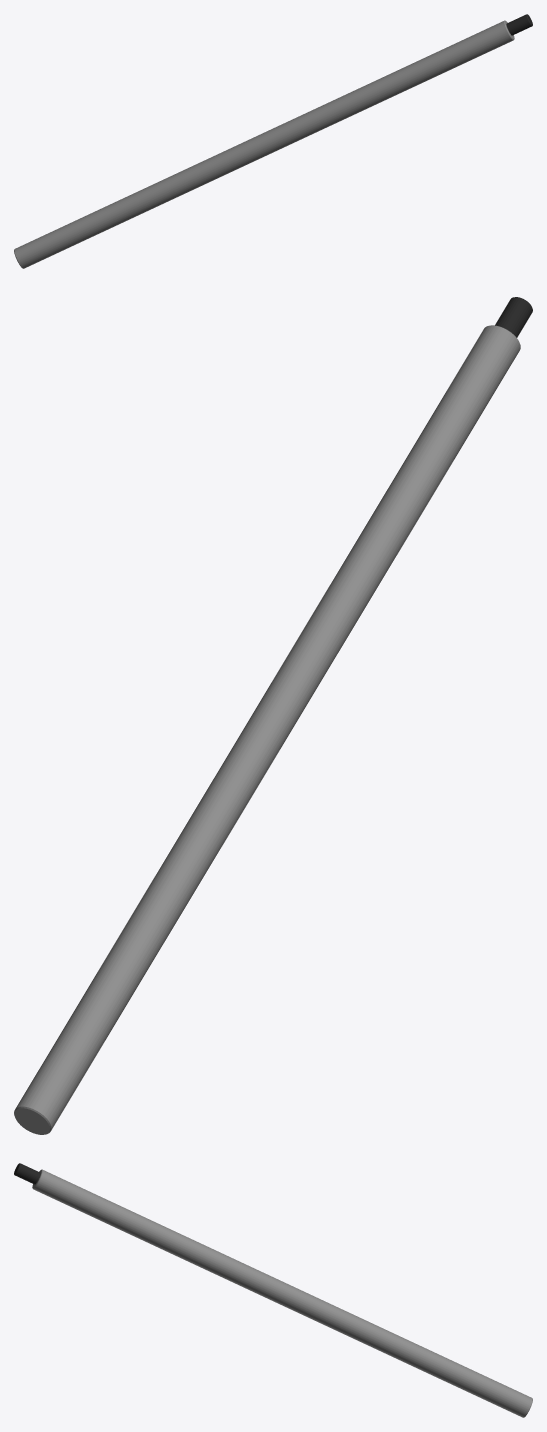
The model's file is RadioAntenaV1.fbx.
3 renders of one model, top to bottom at view 1: azimuth 90°, elevation 25°; view 2: azimuth 150°, elevation 25°; view 3: azimuth 270°, elevation 25°, orthographic. The views are drawn at different scales.
Visible parts, largest first — view 1: Cylinder.010; view 2: Cylinder.010; view 3: Cylinder.010.
Boxes of the visible parts, x1,y1,x2,y2 form: Cylinder.010: (14, 14, 532, 268); Cylinder.010: (14, 297, 532, 1134); Cylinder.010: (14, 1163, 532, 1417).
Bounding box in the file's own units: 192 × 8.1 × 103.
